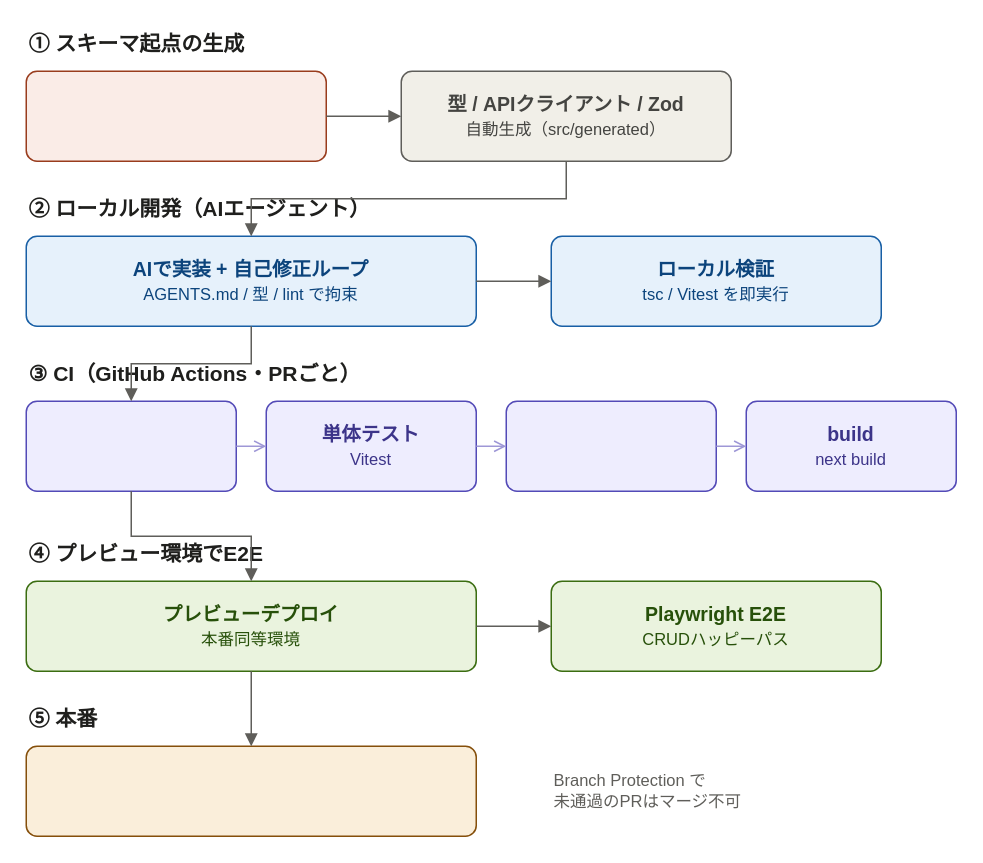
Image size: 983x863. Some labels were removed from this diagram. Each missing label, with the box of its shape:
drift検出 再生成と一致確認: (505, 400, 716, 491)
mainマージで本番デプロイ 全チェック緑が必須: (25, 745, 476, 836)
OpenAPIスキーマ Spring Bootが出力: (25, 70, 326, 161)
型 + lint tsc / ESLint: (25, 400, 236, 491)
